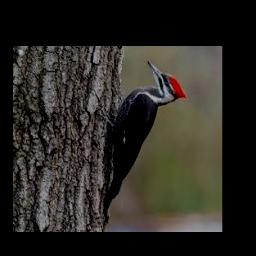Woodpecker: (100, 60, 187, 222)
